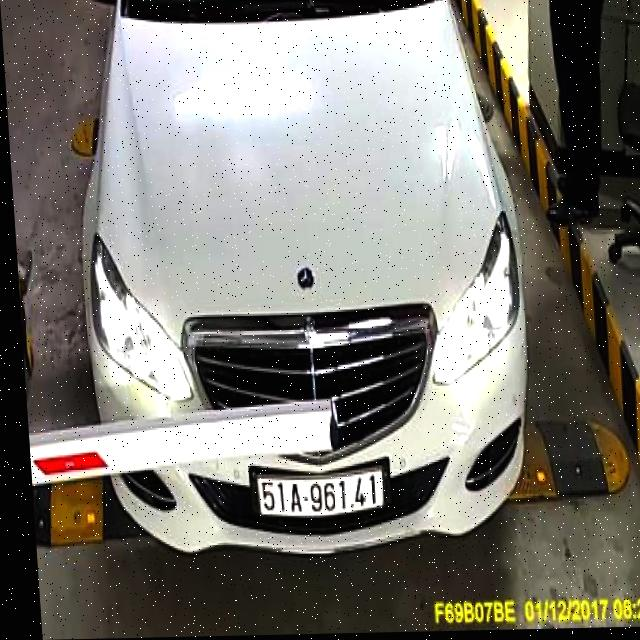car: (61, 0, 544, 562)
plate: (241, 460, 391, 525)
